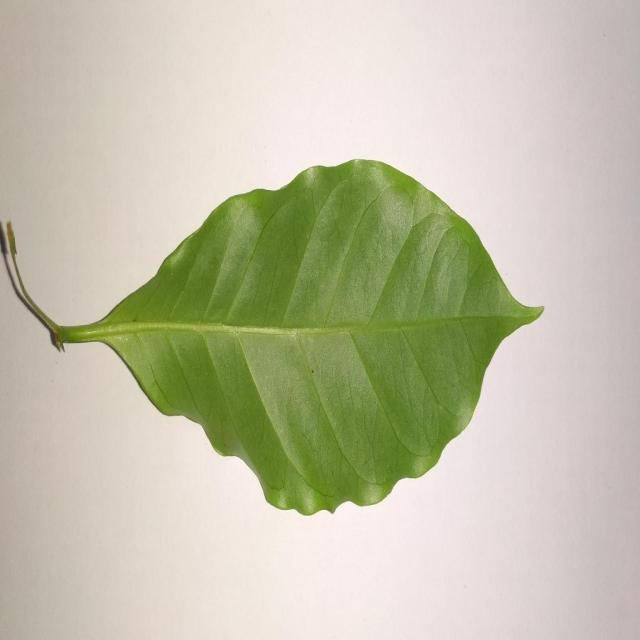Sanas: (0, 159, 545, 519)
